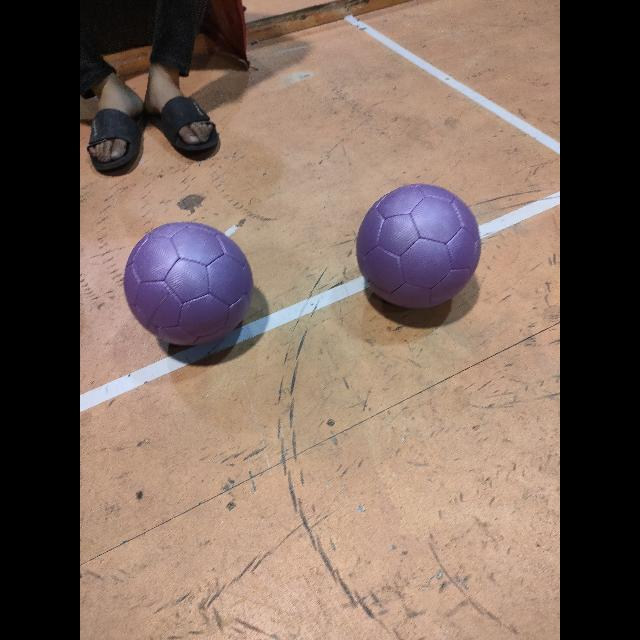P: (124, 221, 252, 345), (356, 184, 480, 308)
